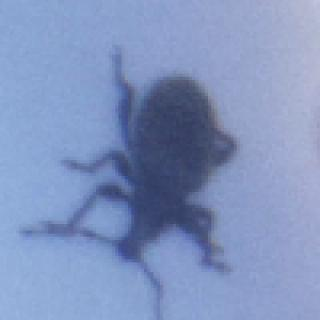bvw: (19, 41, 240, 320)
